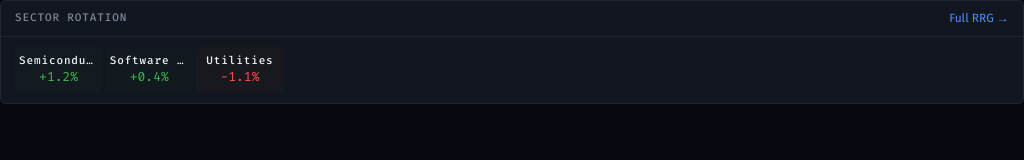
Test: SectorStrip tooltip (T-17) › defers the full industry name and its quadrant to a hover tooltip
Hover over the link "Semiconductors +1.2%".
mouse_move(59, 70)  # box [15,47,102,92]
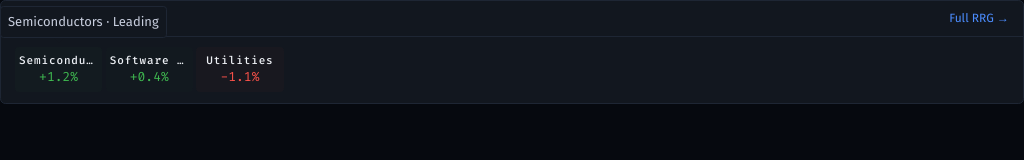
Expected: the tooltip "Semiconductors · Leading" is shown, [0,6,167,38]
